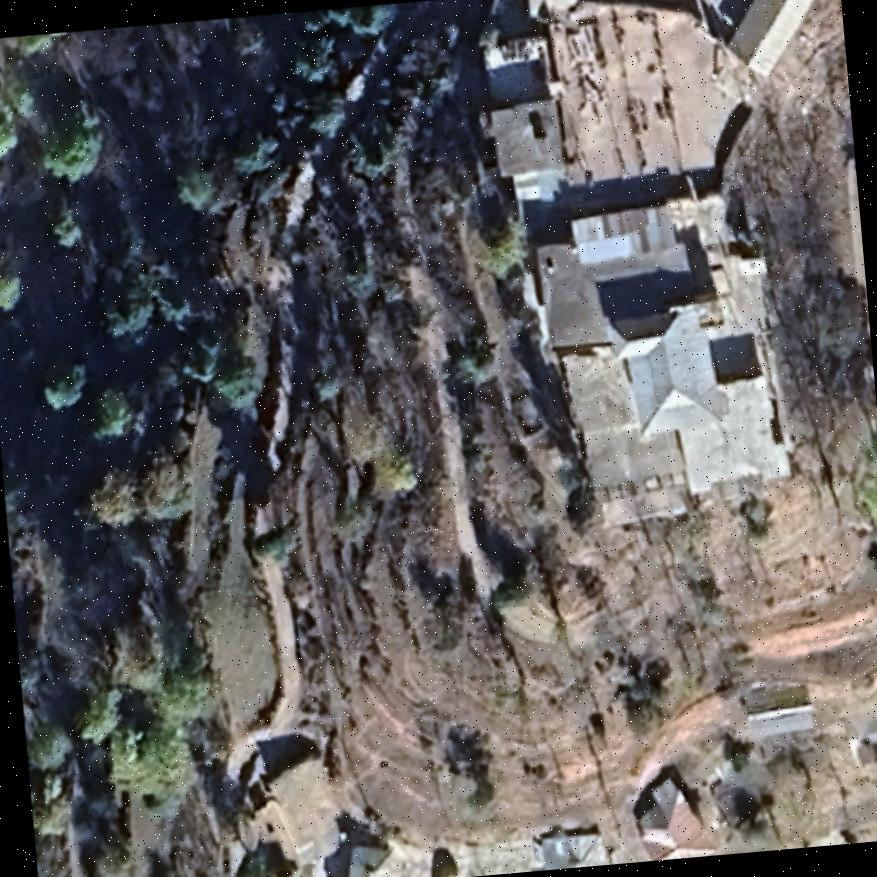Solarpanel: (524, 106, 546, 141)
